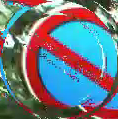No waiting: (4, 7, 116, 113)
